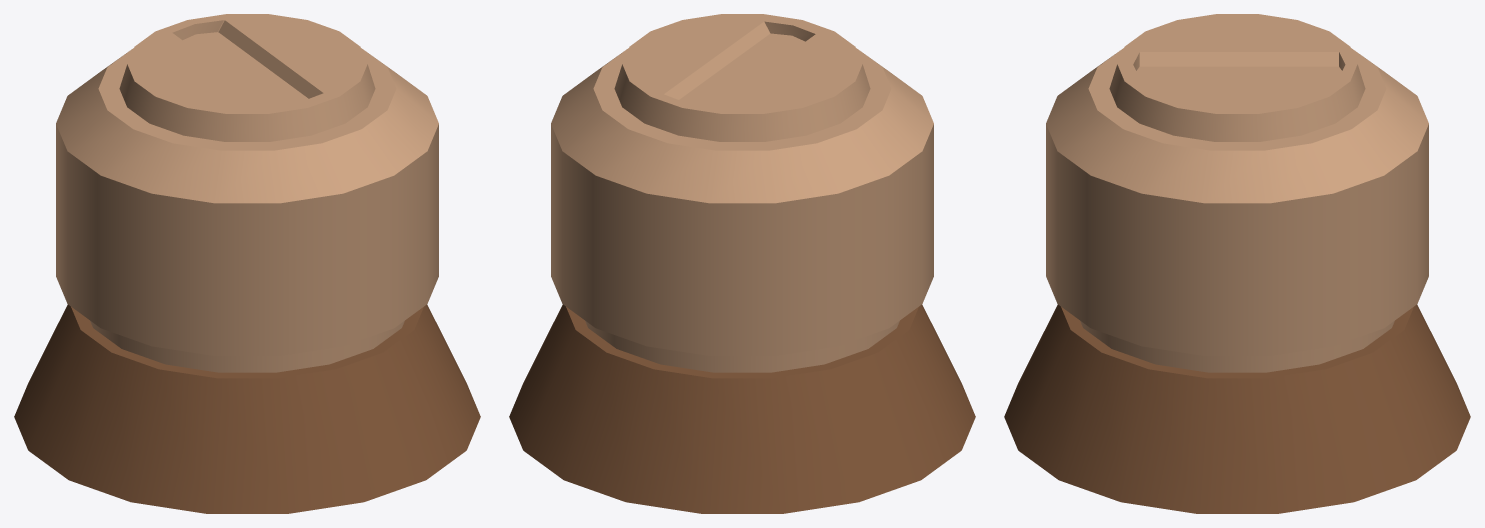
File: quaternius-ultimate-space-roof-opening-transformed.glb
The picture shows the model from 3 angles, left to right: view 1: azimuth 30°, elevation 25°; view 2: azimuth 150°, elevation 25°; view 3: azimuth 270°, elevation 25°; orthographic projection.
Parts seen in each view (by area): view 1: Roof_Opening; view 2: Roof_Opening; view 3: Roof_Opening.
Part boxes in pixels (x1,y1,x2,y2): Roof_Opening: [14, 14, 480, 513]; Roof_Opening: [509, 14, 975, 513]; Roof_Opening: [1004, 14, 1470, 513].
Size of the model in its own units: 1.41 by 1.2 by 1.43.
Materials: 1 (1 with a texture image).
